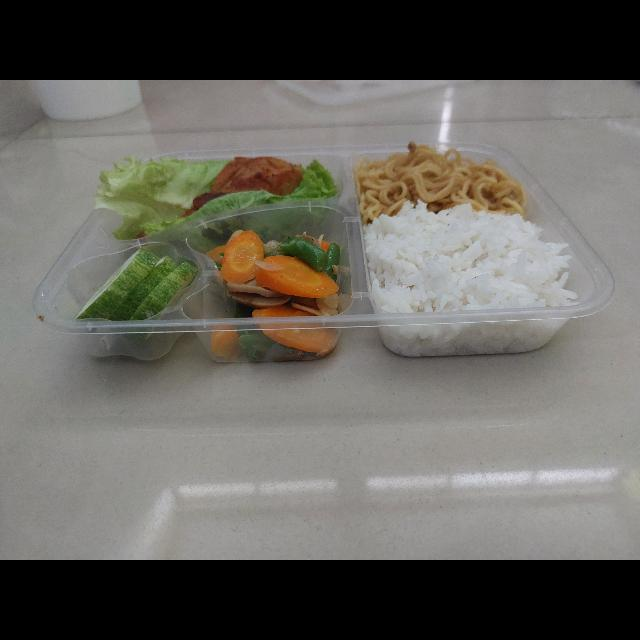bento: (20, 122, 631, 382)
